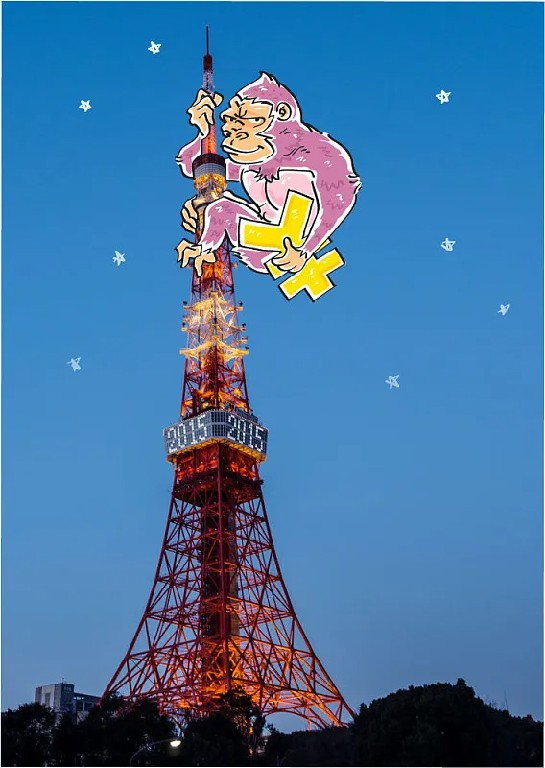Tokyo: (101, 21, 359, 727)
